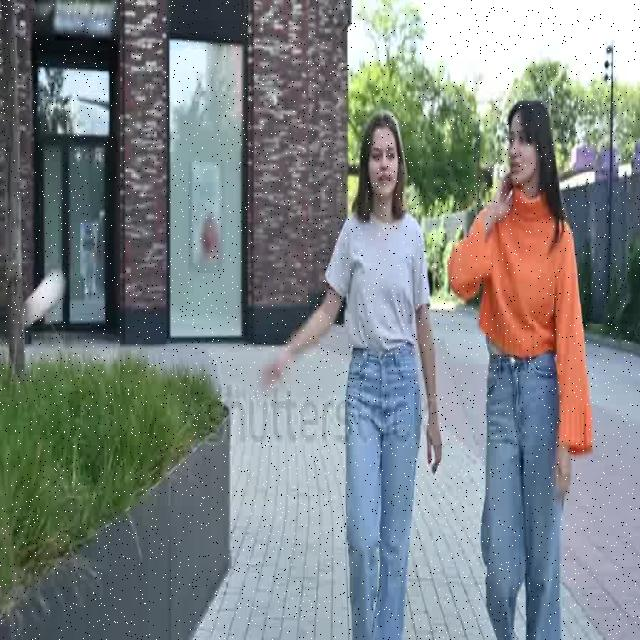human: (257, 98, 440, 640), (444, 99, 594, 640)
trash: (8, 263, 73, 326)
